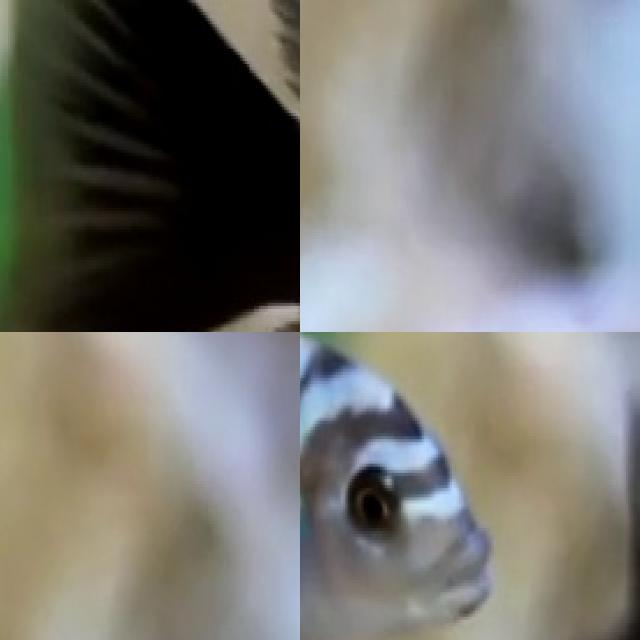fish: (0, 0, 300, 332), (300, 332, 493, 640)
